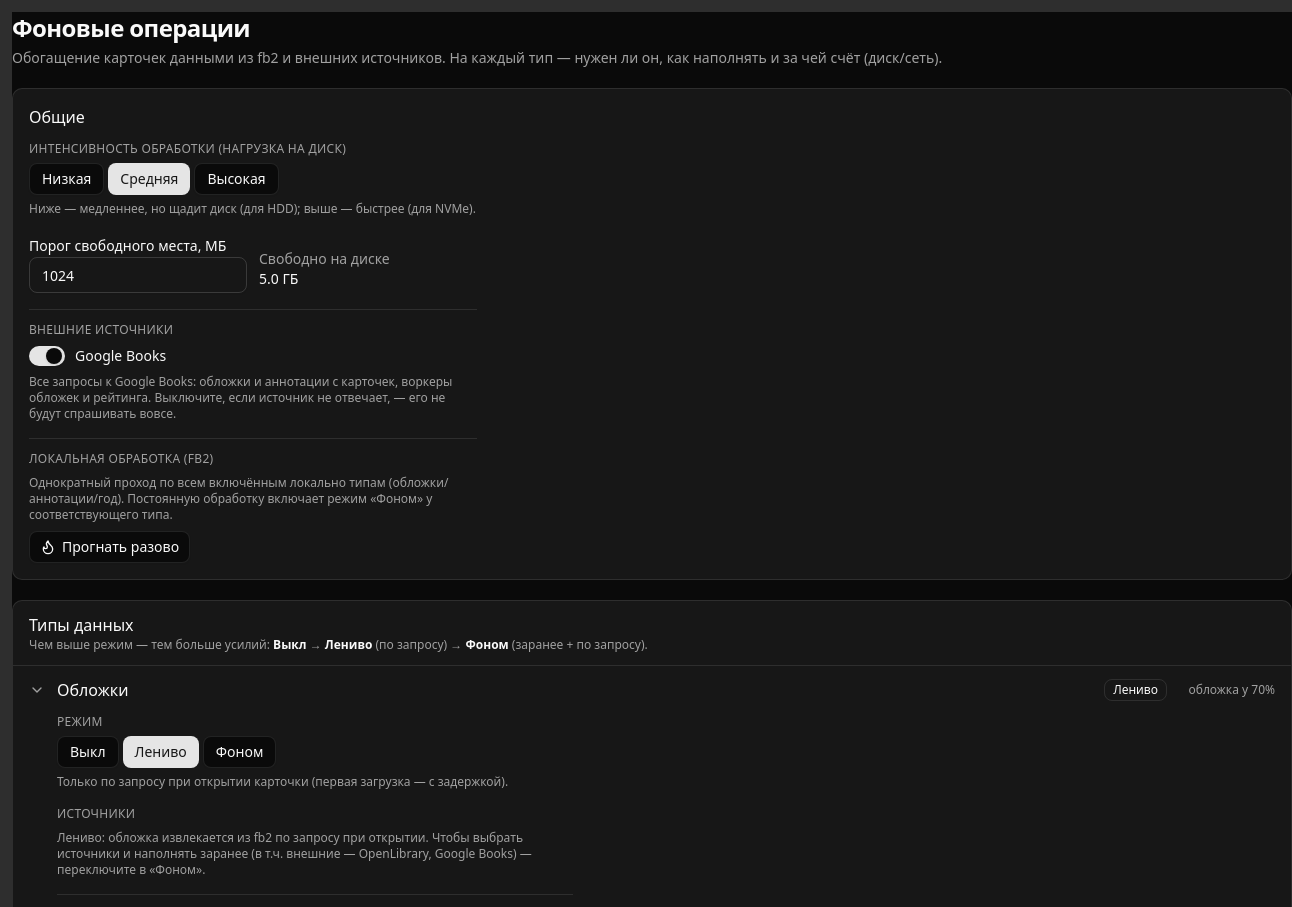
Test: AdminBackgroundPage (аккордеон по типам) › предупреждает при пороге свободного места < 100 МБ
The width and height of the screenshot is (1292, 907).
Expected: the button with test id "cover-mode-lazy" is shown, [122,736,199,768]
Replace the text in the number field with id "min-free" with "50" at (138, 275), box [29,257,247,293]
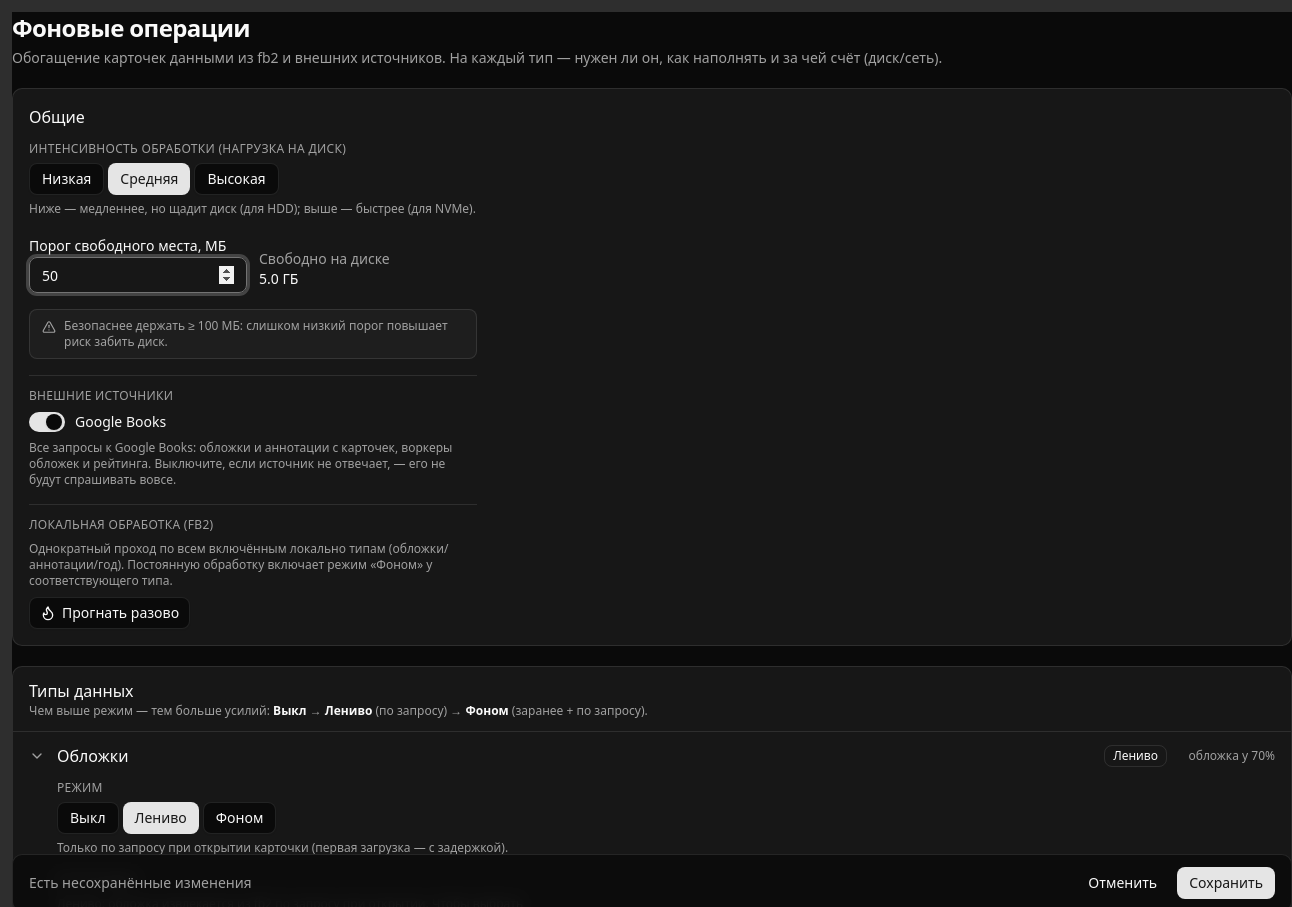
Expected: the text "Безопаснее держать" is shown, [64,317,198,334]
